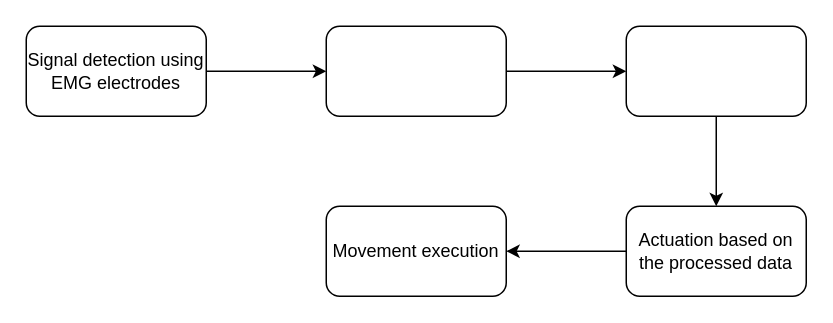
Some shapes in this 833 by 323 pixel diagram are drawn without their labels. Here are the shapes that lost their labels. From the top down, the centre of each, then its label:
the point at 415,70: Data transmission - EMG sensor sends an analog signal to the Arduino
the point at 715,70: Signal processing
